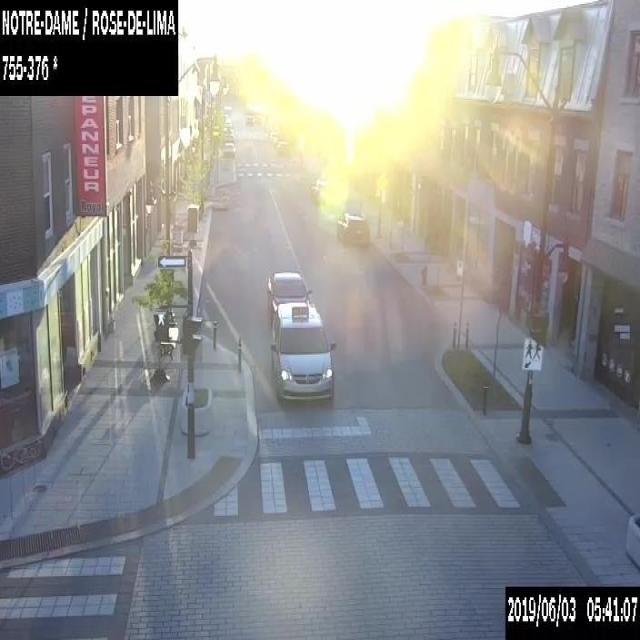vehicle: (269, 300, 335, 404), (266, 271, 311, 305), (335, 211, 368, 245), (311, 178, 333, 200), (276, 140, 288, 156), (222, 141, 234, 156), (222, 117, 232, 132), (268, 130, 278, 142), (223, 105, 231, 116), (245, 114, 253, 124), (223, 133, 233, 141), (272, 137, 280, 146)
